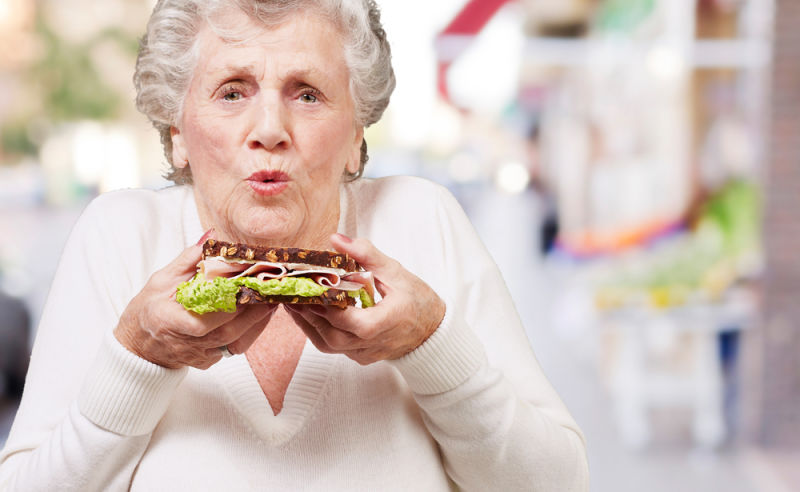eating: (88, 4, 475, 404)
